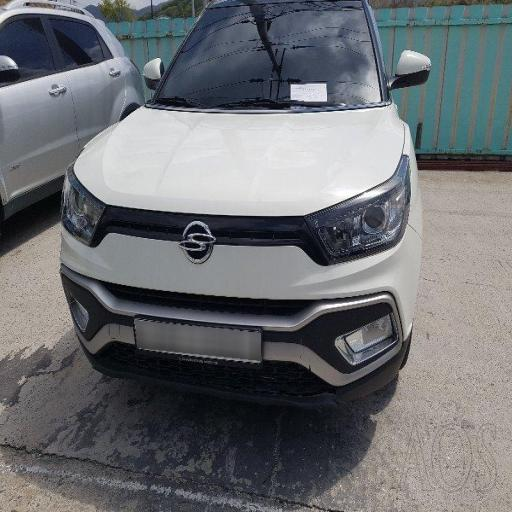normal: (56, 12, 442, 409)
